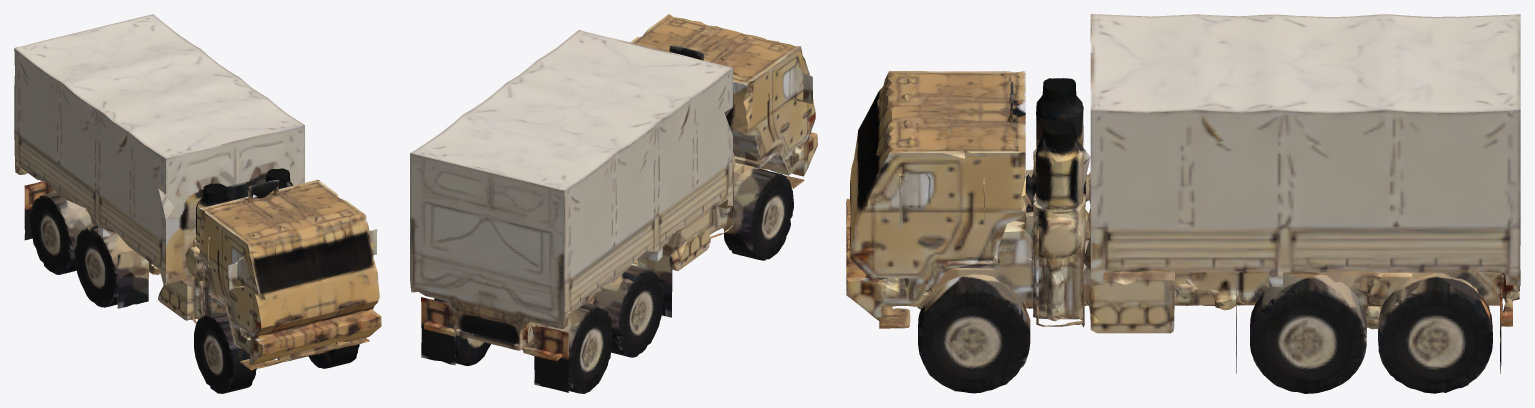
The model's file is M1083_A1P2_Truck_AI_Rodin.glb.
3 renders of one model, left to right at view 1: azimuth 30°, elevation 25°; view 2: azimuth 150°, elevation 25°; view 3: azimuth 270°, elevation 25°, orthographic. The views are drawn at different scales.
Parts seen in each view (by area): view 1: model; view 2: model; view 3: model.
Part boxes in pixels (box(x1,y1,x2,y2)): model: box(14, 14, 381, 393); model: box(410, 14, 817, 393); model: box(846, 14, 1520, 393).
Bounding box in the file's own units: 0.6834 × 0.8922 × 1.89.
1 material, 1 textured.
